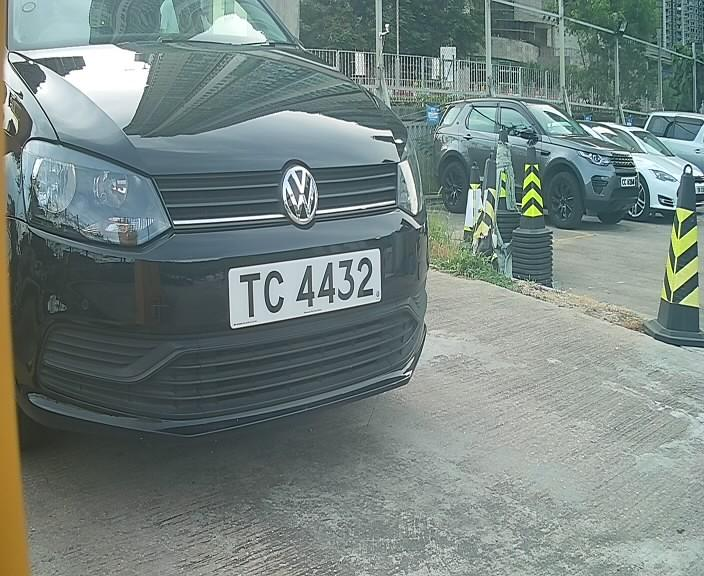License Plate: (230, 237, 387, 330)
